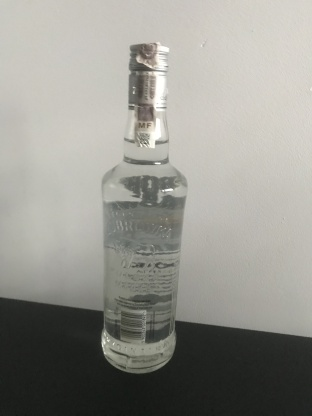nakretka: (126, 40, 170, 110)
